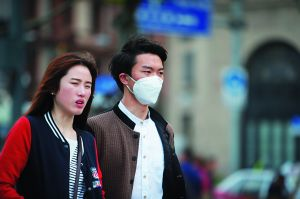face: (54, 68, 91, 114)
face_mask: (133, 55, 166, 105)
